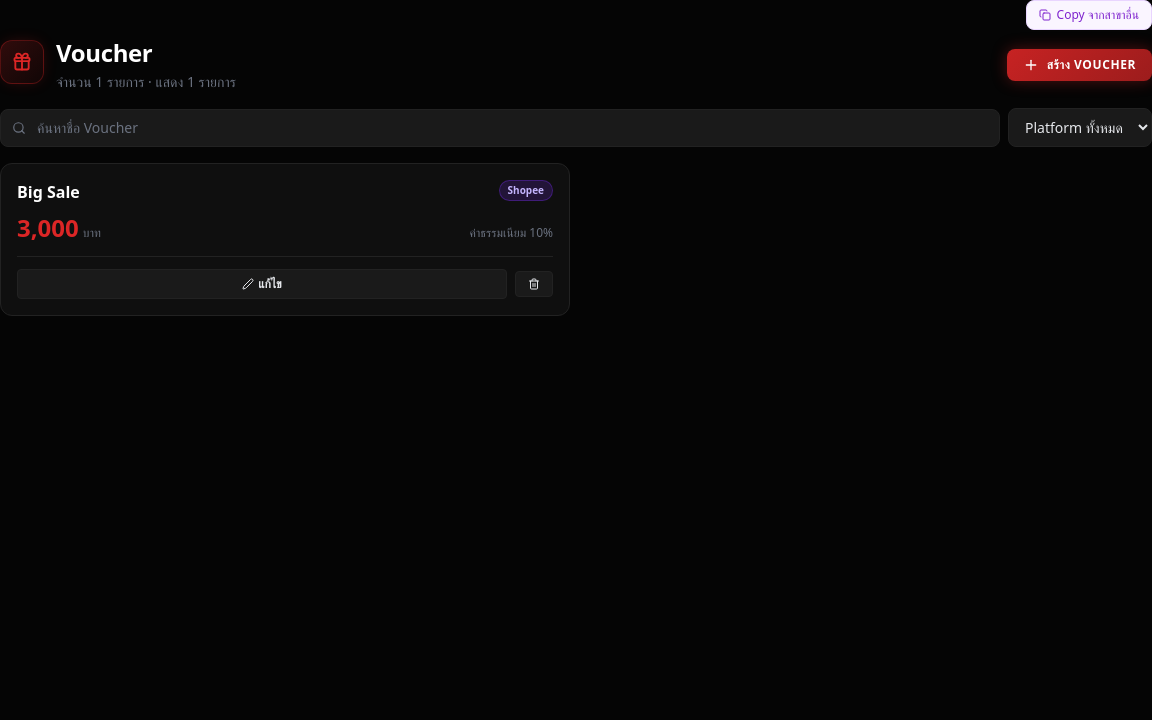
VoucherTab — edit + delete › VE1 edit opens with existing values
Click the button "แก้ไข".
click(262, 284)  # box x1=17 y1=269 x2=507 y2=299
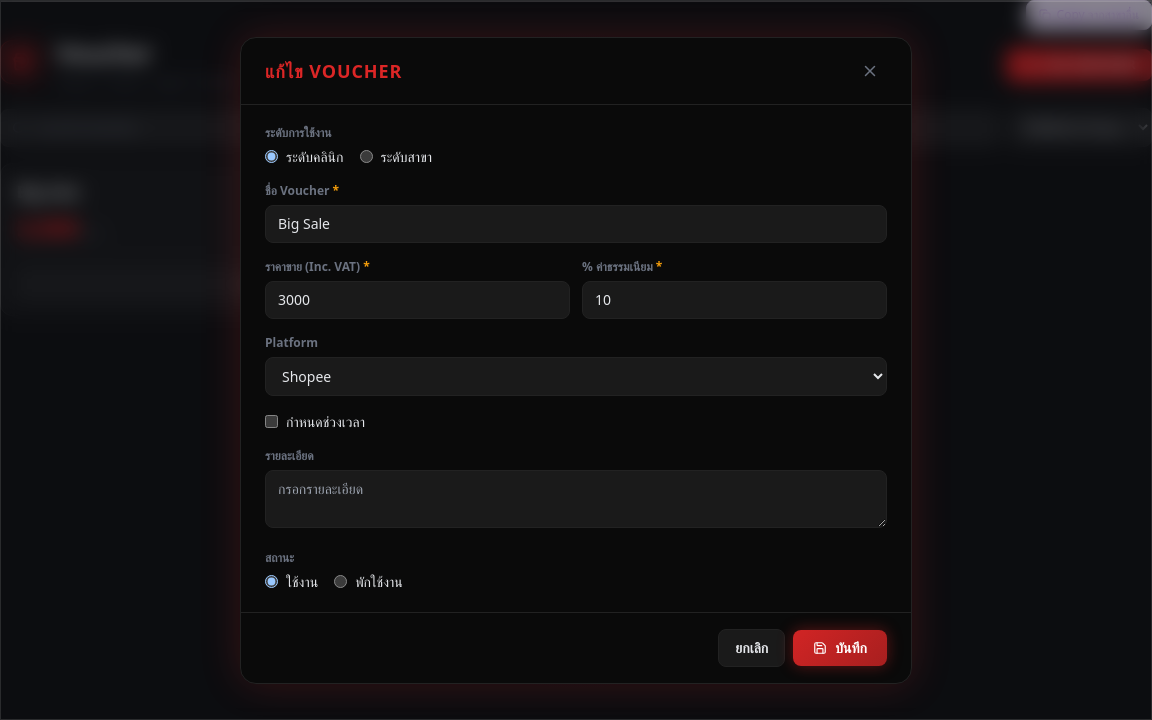
Now the heading "แก้ไข Voucher" is shown, box x1=265 y1=56 x2=402 y2=84
Now the field showing "Big Sale" is shown, box x1=265 y1=204 x2=887 y2=242
Now the number field showing "3000" below "ราคาขาย (Inc. VAT)" is shown, box x1=265 y1=280 x2=570 y2=318
